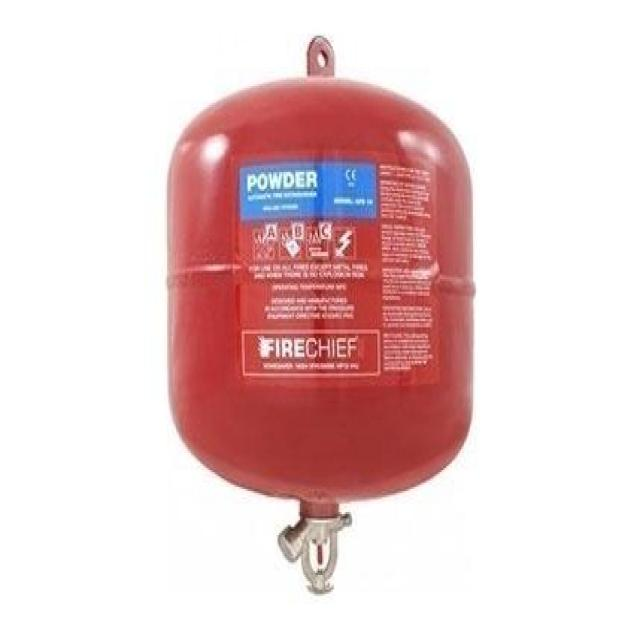fire_extinguisher: (159, 28, 480, 599)
